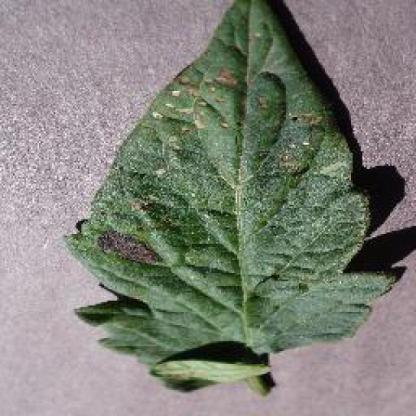Tomato_Blight: (67, 1, 396, 383)
